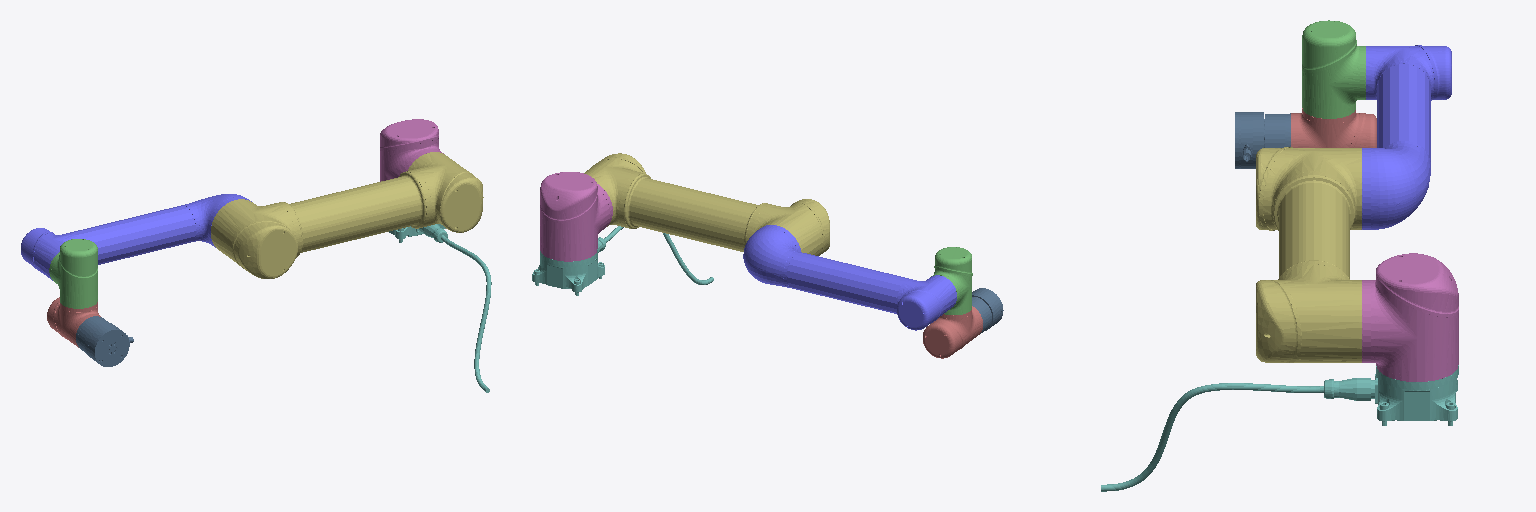
robot.urdf — 7260501-000000-001 TB6-R5-RevA1-urdf:
<?xml version="1.0" encoding="utf-8"?>
<!-- This URDF was automatically created by SolidWorks to URDF Exporter! Originally created by Stephen Brawner (brawner@gmail.com) 
     Commit Version: 1.6.0-4-g7f85cfe  Build Version: 1.6.7995.38578
     For more information, please see http://wiki.ros.org/sw_urdf_exporter -->
<robot
  name="7260501-000000-001 TB6-R5-RevA1-urdf">
  <link
    name="base_link">
    <inertial>
      <origin
        xyz="-0.0014058 -0.02448 0.023181"
        rpy="0 0 0" />
      <mass
        value="5.0487" />
      <inertia
        ixx="0.016738"
        ixy="-0.0014542"
        ixz="-0.0008442"
        iyy="0.0075316"
        iyz="-0.0035371"
        izz="0.018135" />
    </inertial>
    <visual>
      <origin
        xyz="0 0 0"
        rpy="0 0 0" />
      <geometry>
        <mesh
          filename="../meshes/base_link.STL" />
      </geometry>
      <material
        name="">
        <color
          rgba="0.5 0.75686 0.73725 1" />
      </material>
    </visual>
    <collision>
      <origin
        xyz="0 0 0"
        rpy="0 0 0" />
      <geometry>
        <mesh
          filename="../meshes/base_link.STL" />
      </geometry>
    </collision>
  </link>
  <link
    name="Link1">
    <inertial>
      <origin
        xyz="-1.0637E-05 0.005295 0.072879"
        rpy="0 0 0" />
      <mass
        value="13.203" />
      <inertia
        ixx="0.036031"
        ixy="-3.8622E-06"
        ixz="1.1182E-05"
        iyy="0.035299"
        iyz="-0.0002299"
        izz="0.025263" />
    </inertial>
    <visual>
      <origin
        xyz="0 0 0"
        rpy="0 0 0" />
      <geometry>
        <mesh
          filename="../meshes/Link1.STL" />
      </geometry>
      <material
        name="">
        <color
          rgba="0.77647 0.5 0.73725 1" />
      </material>
    </visual>
    <collision>
      <origin
        xyz="0 0 0"
        rpy="0 0 0" />
      <geometry>
        <mesh
          filename="../meshes/Link1.STL" />
      </geometry>
    </collision>
  </link>
  <joint
    name="joint1"
    type="revolute">
    <origin
      xyz="0 0 0.062"
      rpy="0 0 3.1416" />
    <parent
      link="base_link" />
    <child
      link="Link1" />
    <axis
      xyz="0 0 1" />
    <limit
      lower="-2.70526"
      upper="2.70526"
      effort="0"
      velocity="0" />
  </joint>
  <link
    name="Link2">
    <inertial>
      <origin
        xyz="6.9432E-08 0.22081 -0.070574"
        rpy="0 0 0" />
      <mass
        value="46.802" />
      <inertia
        ixx="1.4978"
        ixy="7.1156E-05"
        ixz="1.3128E-08"
        iyy="0.096336"
        iyz="-6.6921E-06"
        izz="1.476" />
    </inertial>
    <visual>
      <origin
        xyz="0 0 0"
        rpy="0 0 0" />
      <geometry>
        <mesh
          filename="../meshes/Link2.STL" />
      </geometry>
      <material
        name="">
        <color
          rgba="0.77647 0.75686 0.5 1" />
      </material>
    </visual>
    <collision>
      <origin
        xyz="0 0 0"
        rpy="0 0 0" />
      <geometry>
        <mesh
          filename="../meshes/Link2.STL" />
      </geometry>
    </collision>
  </link>
  <joint
    name="joint2"
    type="revolute">
    <origin
      xyz="0 0.078 0.0675"
      rpy="1.5708 1.5708 0" />
    <parent
      link="Link1" />
    <child
      link="Link2" />
    <axis
      xyz="0 0 -1" />
    <limit
      lower="-2.70526"
      upper="2.70526"
      effort="0"
      velocity="0" />
  </joint>
  <link
    name="Link3">
    <inertial>
      <origin
        xyz="9.1961E-08 0.1918 0.056153"
        rpy="0 0 0" />
      <mass
        value="20.24" />
      <inertia
        ixx="0.42906"
        ixy="1.5597E-06"
        ixz="1.3979E-07"
        iyy="0.021341"
        iyz="-0.01879"
        izz="0.42608" />
    </inertial>
    <visual>
      <origin
        xyz="0 0 0"
        rpy="0 0 0" />
      <geometry>
        <mesh
          filename="../meshes/Link3.STL" />
      </geometry>
      <material
        name="">
        <color
          rgba="0.5 0.5 1 1" />
      </material>
    </visual>
    <collision>
      <origin
        xyz="0 0 0"
        rpy="0 0 0" />
      <geometry>
        <mesh
          filename="../meshes/Link3.STL" />
      </geometry>
    </collision>
  </link>
  <joint
    name="joint3"
    type="revolute">
    <origin
      xyz="0 0.442 0"
      rpy="0 0 0" />
    <parent
      link="Link2" />
    <child
      link="Link3" />
    <axis
      xyz="0 0 -1" />
    <limit
      lower="-2.8623"
      upper="2.8623"
      effort="0"
      velocity="0" />
  </joint>
  <link
    name="Link4">
    <inertial>
      <origin
        xyz="-0.0056527 1.8596E-07 0.048312"
        rpy="0 0 0" />
      <mass
        value="4.6142" />
      <inertia
        ixx="0.0037508"
        ixy="1.1465E-07"
        ixz="3.3742E-06"
        iyy="0.0068327"
        iyz="-2.7773E-08"
        izz="0.0066952" />
    </inertial>
    <visual>
      <origin
        xyz="0 0 0"
        rpy="0 0 0" />
      <geometry>
        <mesh
          filename="../meshes/Link4.STL" />
      </geometry>
      <material
        name="">
        <color
          rgba="0.5 0.75686 0.5 1" />
      </material>
    </visual>
    <collision>
      <origin
        xyz="0 0 0"
        rpy="0 0 0" />
      <geometry>
        <mesh
          filename="../meshes/Link4.STL" />
      </geometry>
    </collision>
  </link>
  <joint
    name="joint4"
    type="revolute">
    <origin
      xyz="0 0.386 0.005"
      rpy="3.1416 0 0" />
    <parent
      link="Link3" />
    <child
      link="Link4" />
    <axis
      xyz="0 0 1" />
    <limit
      lower="-2.70526"
      upper="2.70526"
      effort="0"
      velocity="0" />
  </joint>
  <link
    name="Link5">
    <inertial>
      <origin
        xyz="2.1811E-06 -0.0034366 0.048488"
        rpy="0 0 0" />
      <mass
        value="4.7679" />
      <inertia
        ixx="0.0074585"
        ixy="-1.3431E-07"
        ixz="4.9427E-08"
        iyy="0.0038192"
        iyz="-2.0198E-05"
        izz="0.0073306" />
    </inertial>
    <visual>
      <origin
        xyz="0 0 0"
        rpy="0 0 0" />
      <geometry>
        <mesh
          filename="../meshes/Link5.STL" />
      </geometry>
      <material
        name="">
        <color
          rgba="0.77647 0.5 0.5 1" />
      </material>
    </visual>
    <collision>
      <origin
        xyz="0 0 0"
        rpy="0 0 0" />
      <geometry>
        <mesh
          filename="../meshes/Link5.STL" />
      </geometry>
    </collision>
  </link>
  <joint
    name="joint5"
    type="revolute">
    <origin
      xyz="0.054 0 0.051"
      rpy="1.5708 0 1.5708" />
    <parent
      link="Link4" />
    <child
      link="Link5" />
    <axis
      xyz="0 0 1" />
    <limit
      lower="-2.70526"
      upper="2.70526"
      effort="0"
      velocity="0" />
  </joint>
  <link
    name="ee_Link">
    <inertial>
      <origin
        xyz="0.00014478 -3.8562E-05 0.042274"
        rpy="0 0 0" />
      <mass
        value="2.5464" />
      <inertia
        ixx="0.001183"
        ixy="-3.8045E-08"
        ixz="1.1079E-06"
        iyy="0.0011973"
        iyz="4.7168E-06"
        izz="0.0020364" />
    </inertial>
    <visual>
      <origin
        xyz="0 0 0"
        rpy="0 0 0" />
      <geometry>
        <mesh
          filename="../meshes/ee_Link.STL" />
      </geometry>
      <material
        name="">
        <color
          rgba="0.4 0.5 0.6 1" />
      </material>
    </visual>
    <collision>
      <origin
        xyz="0 0 0"
        rpy="0 0 0" />
      <geometry>
        <mesh
          filename="../meshes/ee_Link.STL" />
      </geometry>
    </collision>
  </link>
  <joint
    name="joint6"
    type="revolute">
    <origin
      xyz="0 0.054 0.051"
      rpy="-1.5708 0 0" />
    <parent
      link="Link5" />
    <child
      link="ee_Link" />
    <axis
      xyz="0 0 1" />
    <limit
      lower="-2.70526"
      upper="2.70526"
      effort="0"
      velocity="0" />
  </joint>
</robot>

--- What the picture shows (computed from the rendered views, not written in the file) ---
3 views of the same robot in one strip: view 1: azimuth 30°, elevation 25°; view 2: azimuth 150°, elevation 25°; view 3: azimuth 270°, elevation 25° (orthographic).
Model 7260501-000000-001 TB6-R5-RevA1-urdf with 7 links and 6 joints (6 revolute), rooted at base_link, posed every joint at zero.
Visible links, largest first — view 1: Link2, Link3, Link4, Link1, ee_Link, base_link, Link5; view 2: Link2, Link3, Link1, base_link, Link5, Link4, ee_Link; view 3: Link2, Link3, Link1, base_link, Link4, Link5, ee_Link.
Link boxes in pixels (box(x1,y1,x2,y2)): Link2: box(211, 152, 483, 278); Link3: box(21, 194, 251, 280); Link4: box(49, 239, 97, 308); Link1: box(380, 119, 443, 181); ee_Link: box(76, 316, 133, 366); base_link: box(389, 224, 491, 392); Link5: box(47, 297, 100, 347); Link2: box(584, 153, 829, 255); Link3: box(743, 225, 956, 330); Link1: box(540, 172, 612, 261); base_link: box(532, 226, 713, 295); Link5: box(923, 306, 982, 358); Link4: box(931, 247, 972, 314); ee_Link: box(972, 288, 1003, 333); Link2: box(1256, 147, 1361, 362); Link3: box(1362, 45, 1451, 229); Link1: box(1362, 253, 1458, 381); base_link: box(1101, 365, 1458, 491); Link4: box(1302, 20, 1365, 118); Link5: box(1291, 108, 1376, 147); ee_Link: box(1235, 112, 1290, 168).
Size in the robot's own frame: 0.927 by 0.505 by 0.382 metres.
Meshes: 7 distinct files referenced, 7 mesh visuals loaded (7 binary STL).
